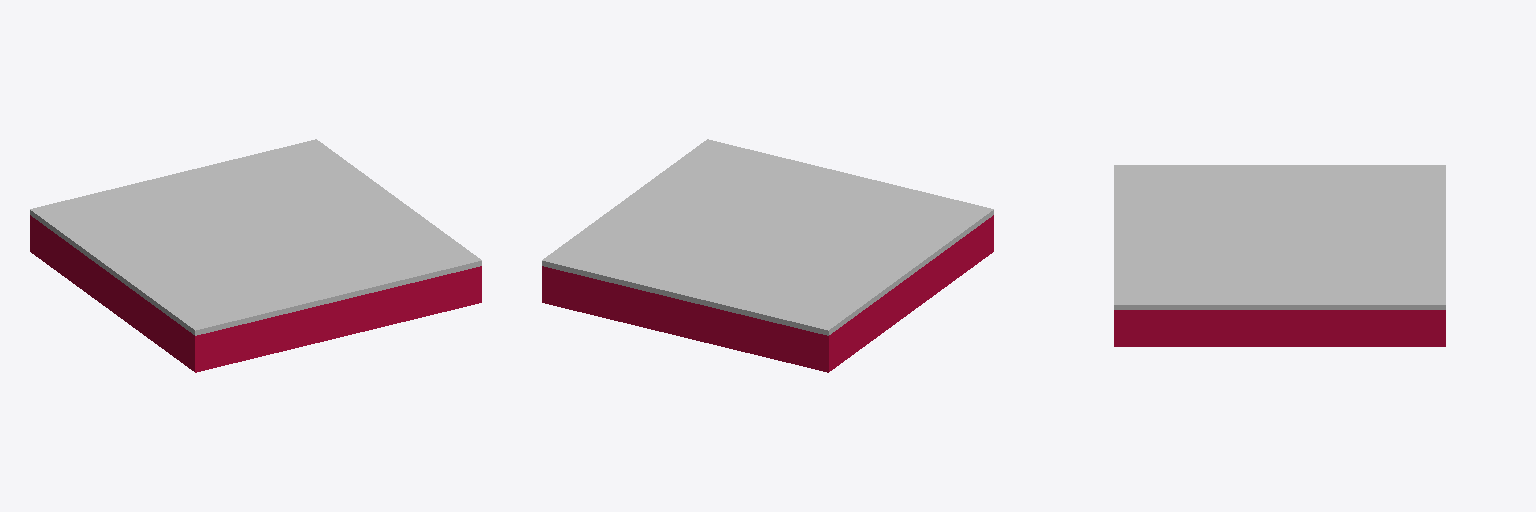
Rendered from map_3.obj.
The picture shows the model from 3 angles: view 1: azimuth 30°, elevation 25°; view 2: azimuth 150°, elevation 25°; view 3: azimuth 270°, elevation 25°; orthographic projection.
Parts seen in each view (by area): view 1: Cube.017_Cube.038, Cube.003_Cube.006, Cube, cube1_Cube.003; view 2: Cube.017_Cube.038, Cube.001, Cube, cube1_Cube.003; view 3: Cube.017_Cube.038, Cube.002_Cube.005, cube1_Cube.003, Cube.001, Cube.003_Cube.006.
Part boxes in pixels (bbox=[...]): Cube.017_Cube.038: bbox=[30, 139, 481, 335]; Cube.003_Cube.006: bbox=[211, 266, 481, 366]; Cube: bbox=[30, 215, 210, 370]; cube1_Cube.003: bbox=[30, 250, 481, 372]; Cube.017_Cube.038: bbox=[542, 139, 993, 335]; Cube.001: bbox=[542, 266, 812, 366]; Cube: bbox=[813, 215, 993, 370]; cube1_Cube.003: bbox=[542, 250, 993, 372]; Cube.017_Cube.038: bbox=[1114, 165, 1445, 309]; Cube.002_Cube.005: bbox=[1132, 310, 1427, 344]; cube1_Cube.003: bbox=[1114, 345, 1445, 346]; Cube.001: bbox=[1428, 310, 1445, 344]; Cube.003_Cube.006: bbox=[1114, 310, 1131, 344].
Bounding box in the file's own units: 600 × 84.39 × 600.